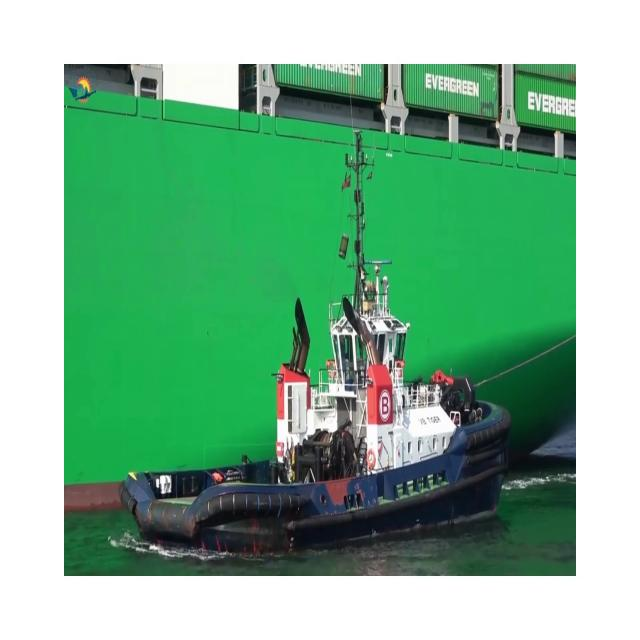OCR: (518, 74, 576, 127), (422, 68, 483, 107)
